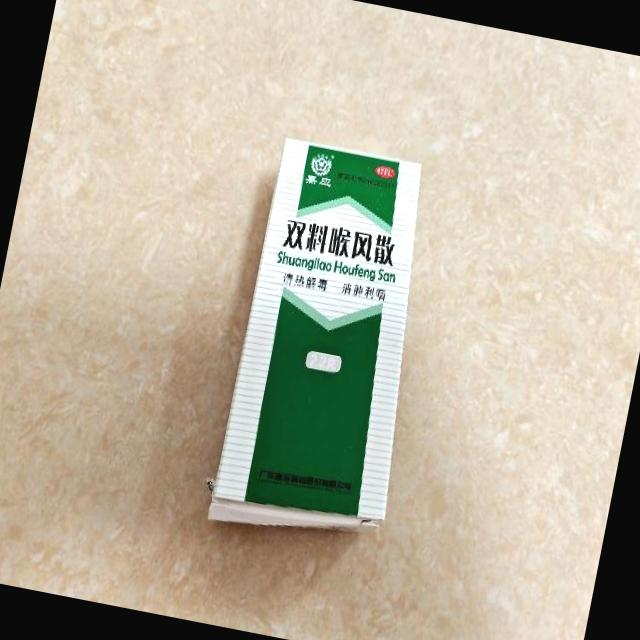box: (206, 136, 453, 554)
